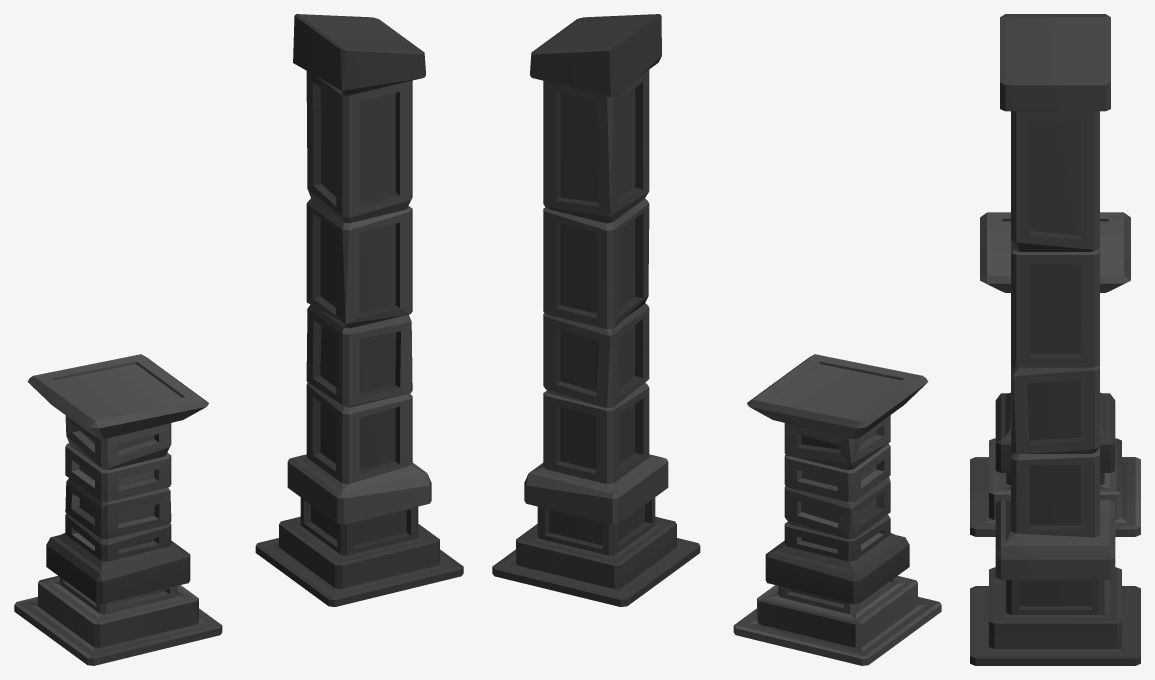
File: pillar.fbx
3 views of the same model, side by side, from view 1: azimuth 30°, elevation 25°; view 2: azimuth 150°, elevation 25°; view 3: azimuth 270°, elevation 25° (orthographic). The views are drawn at different scales.
Visible parts, largest first — view 1: Cube, Cube.002; view 2: Cube, Cube.002; view 3: Cube, Cube.002.
Boxes of the visible parts, bbox=[...] form: Cube: bbox=[255, 14, 463, 606]; Cube.002: bbox=[14, 354, 222, 665]; Cube: bbox=[492, 14, 700, 606]; Cube.002: bbox=[733, 354, 941, 665]; Cube: bbox=[970, 14, 1140, 665]; Cube.002: bbox=[970, 212, 1140, 536].
Bounding box in the file's own units: 330 × 454 × 118.
